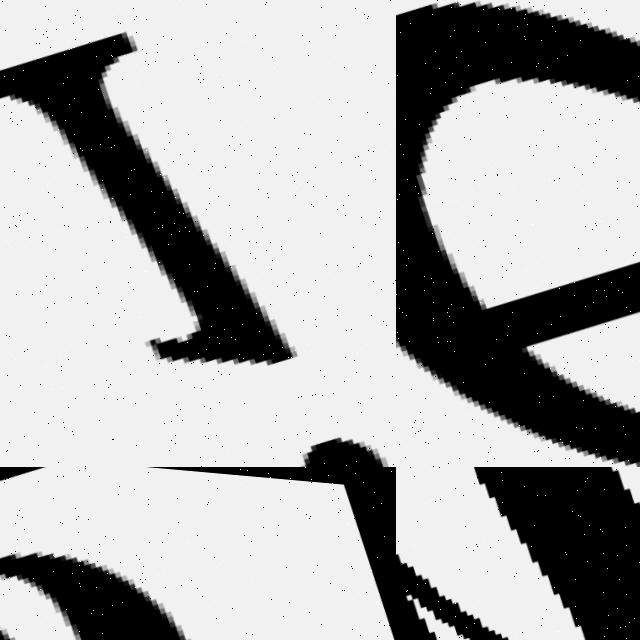5: (0, 467, 387, 640)
E: (396, 0, 640, 454)
I: (0, 0, 396, 467)
N: (396, 467, 640, 640)
